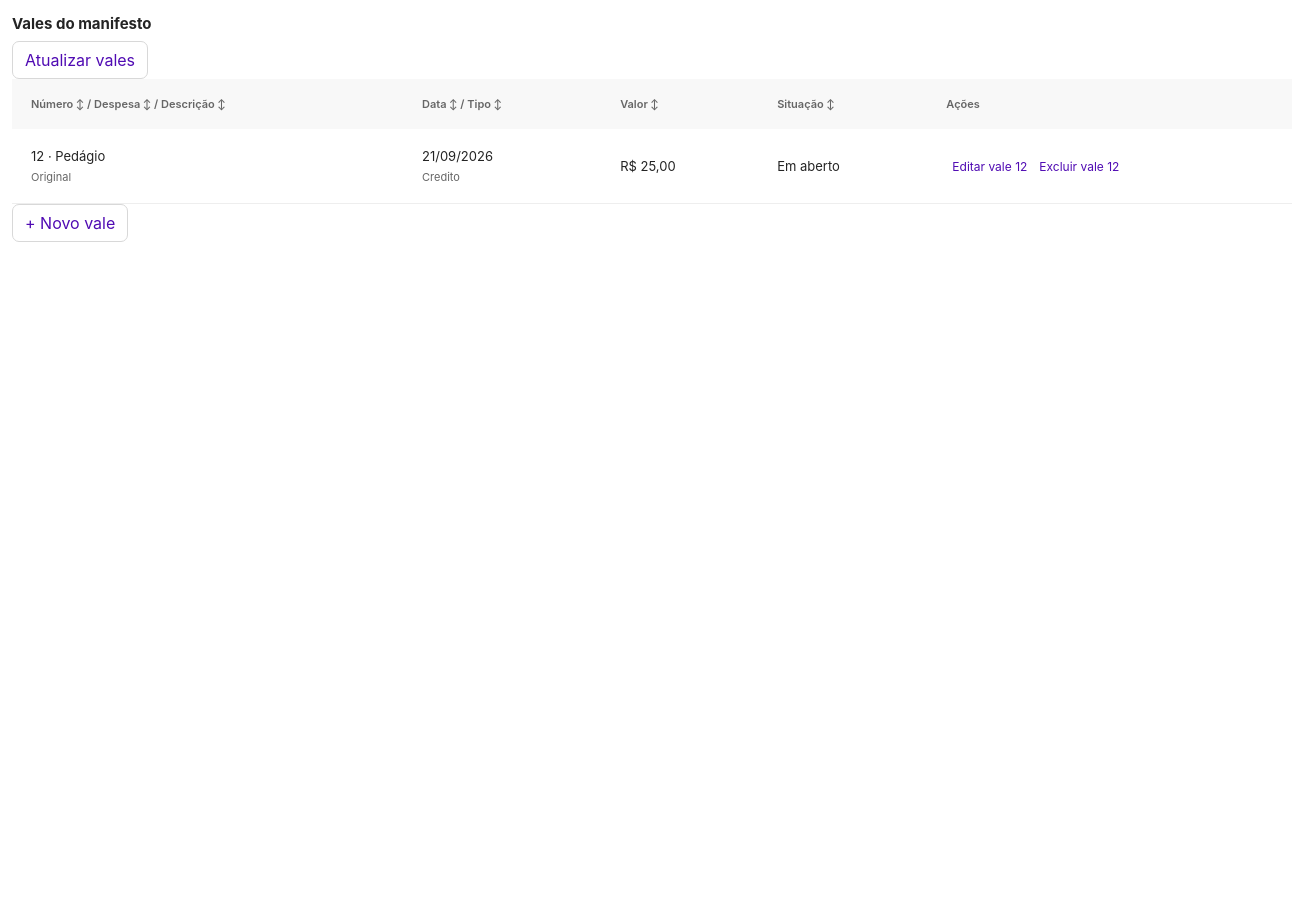
Scenario: inclui valor numérico, sem enviar semana manual, e atualiza manifesto
Click the button "+ Novo vale". click: (70, 223)
box: [12,204,128,242]
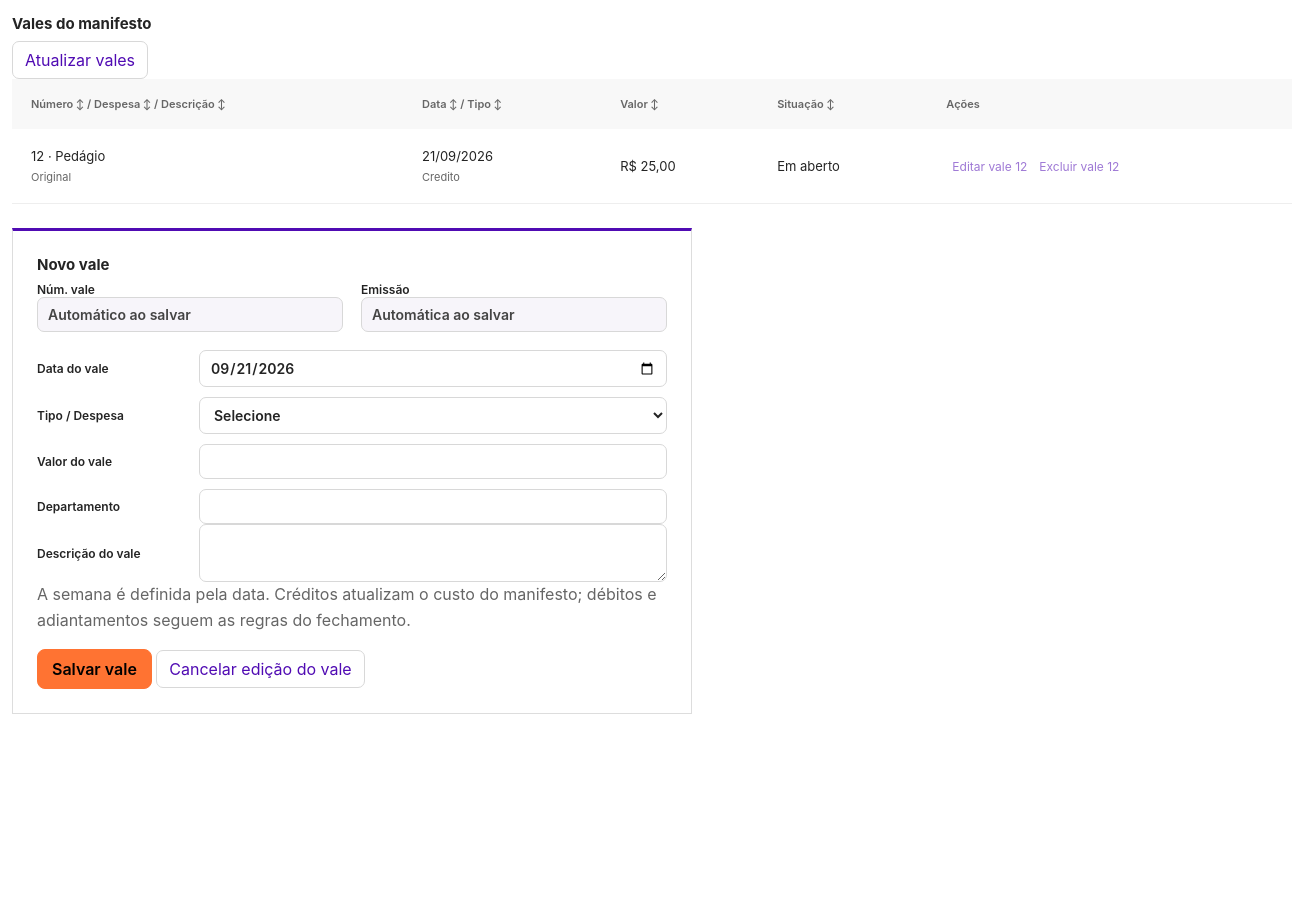
Select "01 · Pedágio · Credito" in the dropdown labelled "Despesa". click: (433, 416)
box: [199,397,667,434]
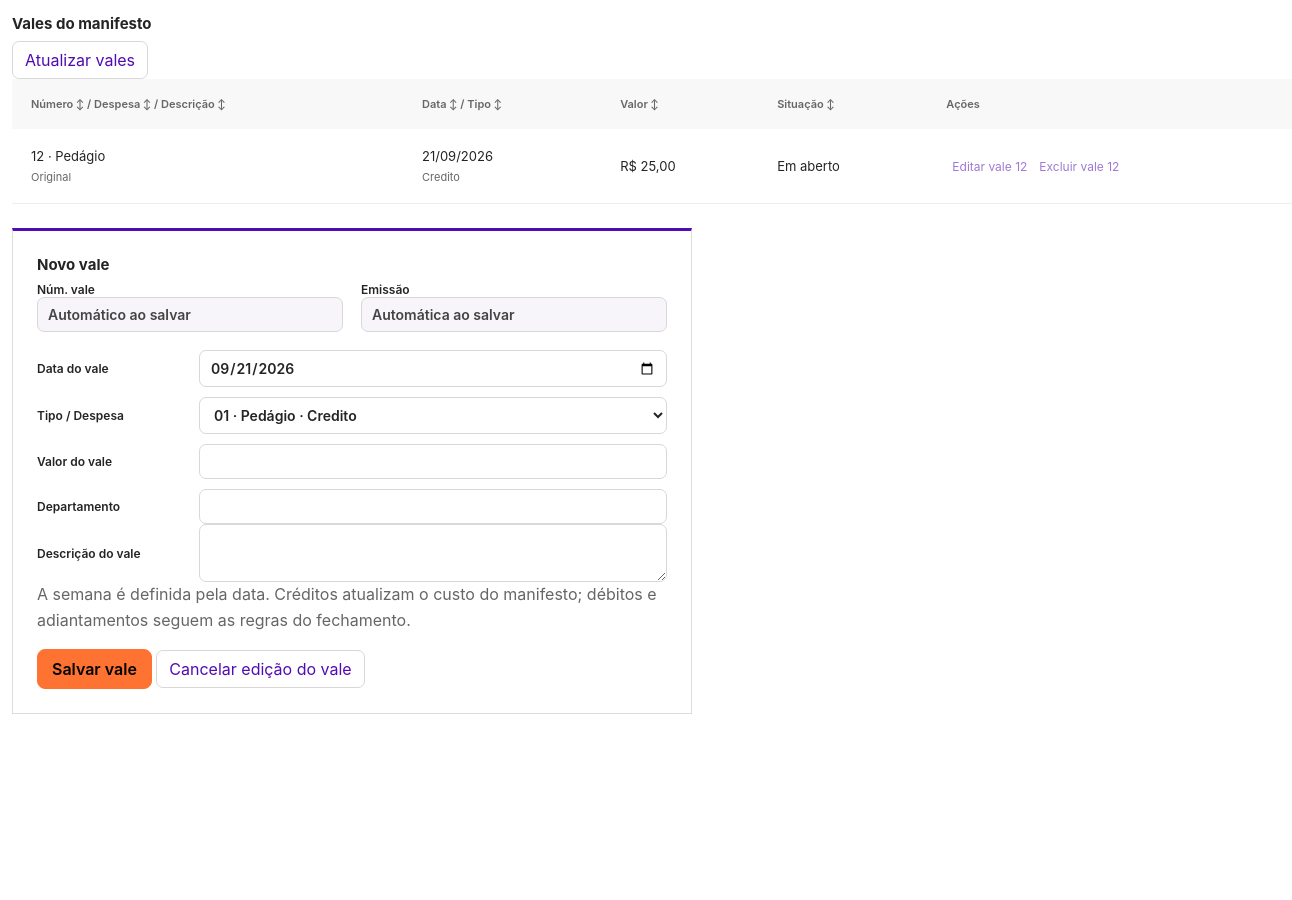
Type "30.50" into the number field labelled "Valor do vale". click: (433, 462)
box: [199,444,667,479]
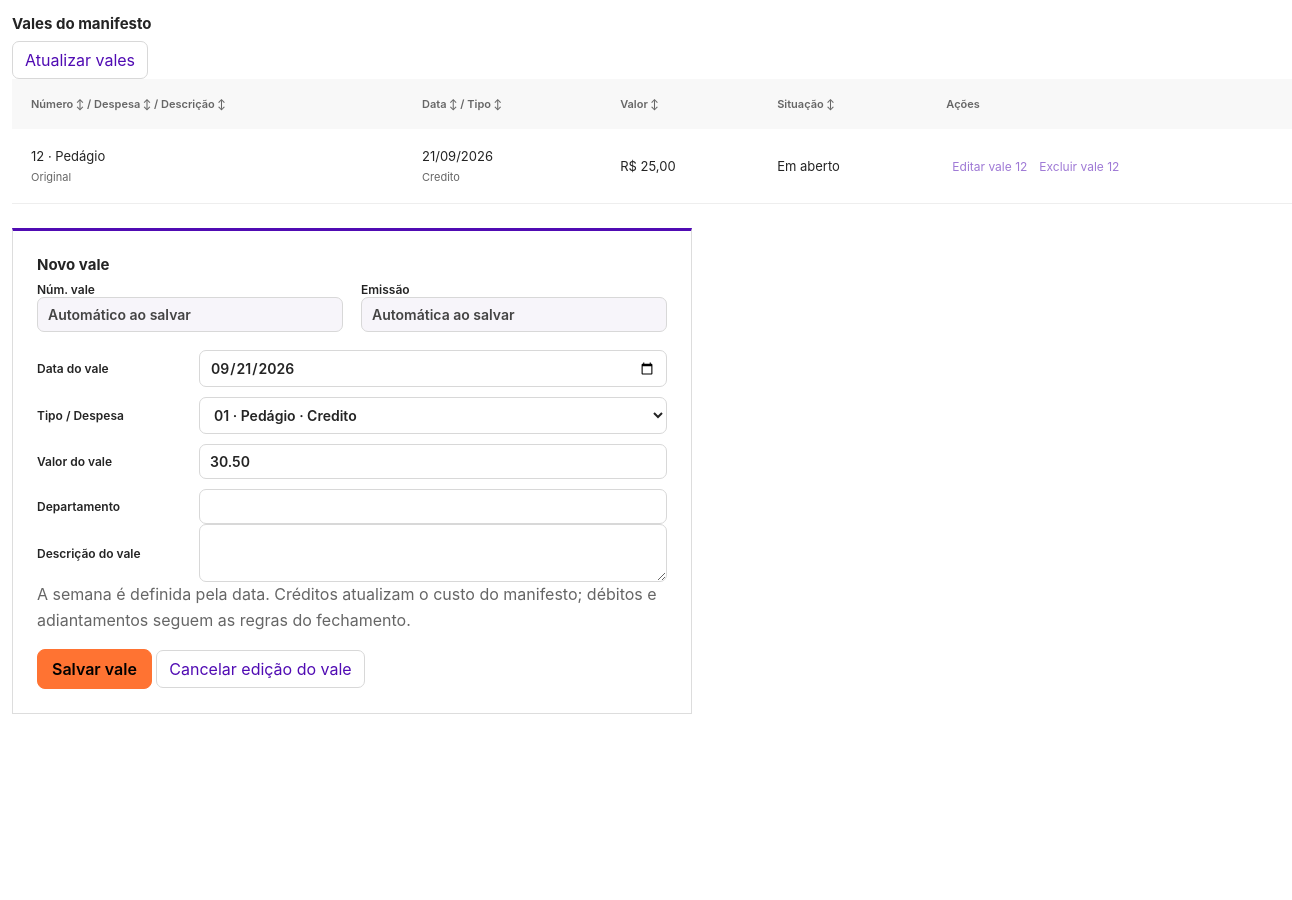
Click the button "Salvar vale". click: (94, 669)
box: [37,649,152,689]
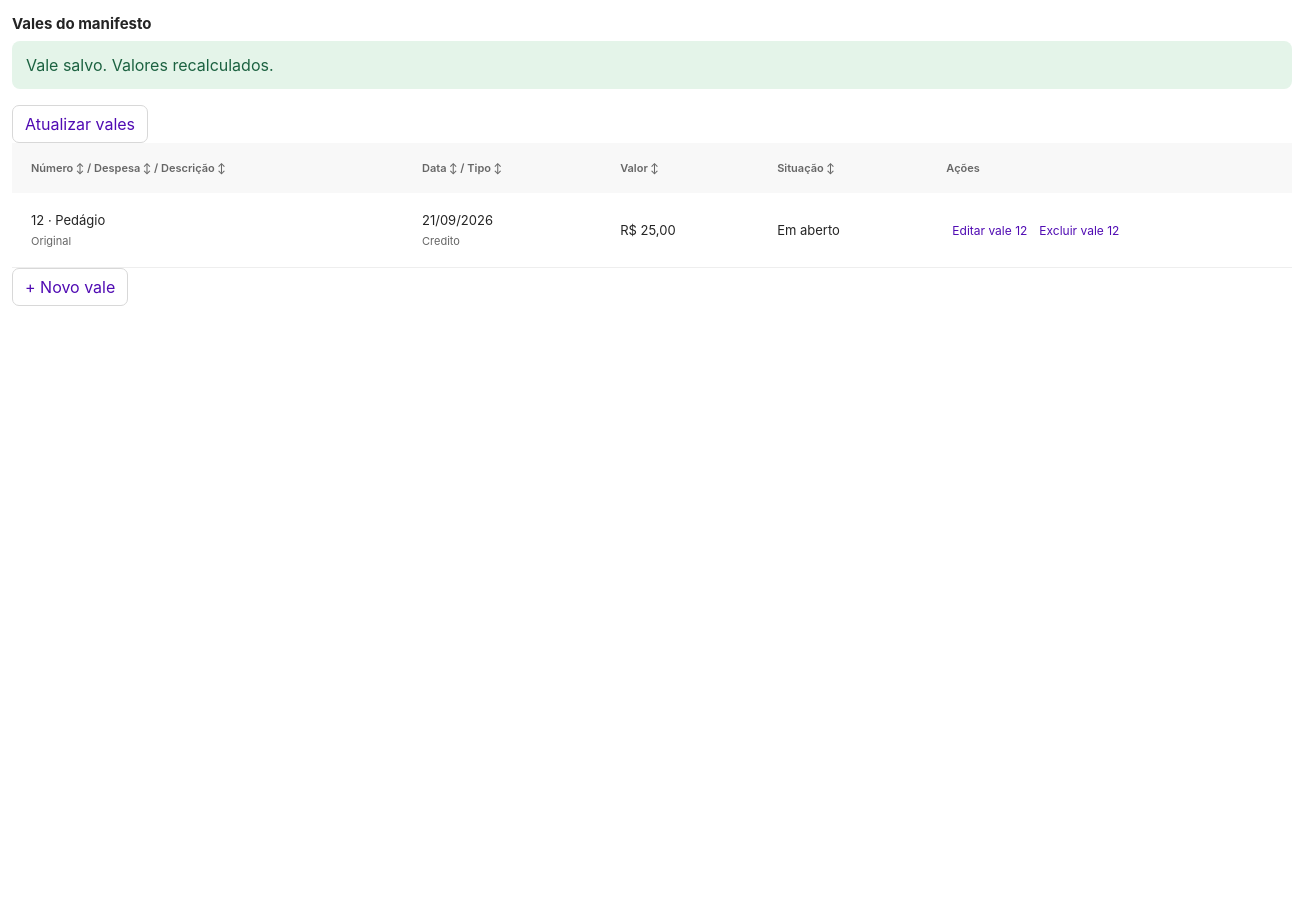
Expected: the text "Vale salvo. Valores recalculados." is shown, [12,41,1291,89]
